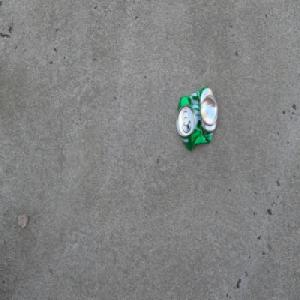SodaCan: (175, 84, 218, 152)
